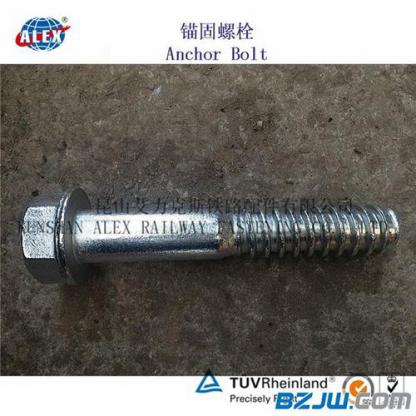FOD: (17, 193, 401, 285)
